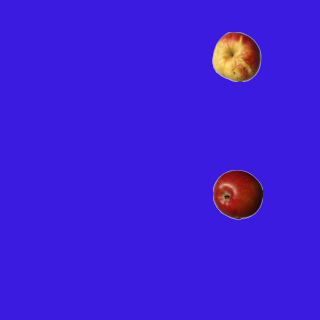Apple Braeburn: (212, 169, 262, 219)
Apple Red Yellow 1: (211, 31, 261, 81)
